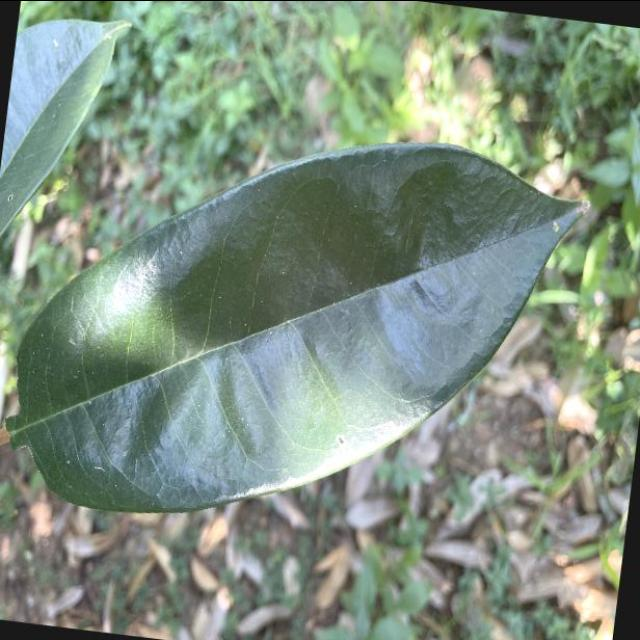No Disease: (0, 84, 608, 576)
